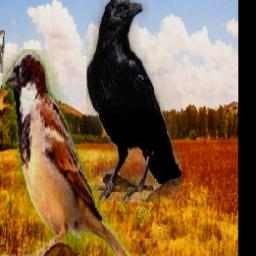Crow: (87, 0, 182, 202)
Cuckoo: (0, 30, 5, 73)
Sparrow: (3, 49, 133, 256)
